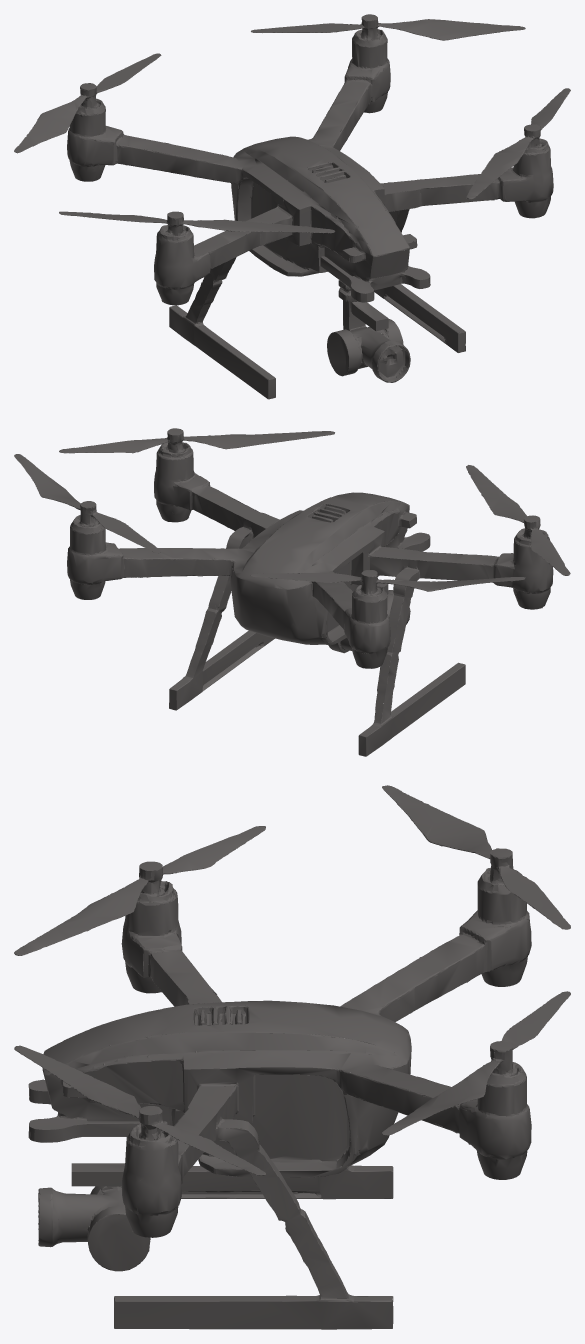
Rendered from drone_hexa.glb.
The picture shows the model from 3 angles, top to bottom: view 1: azimuth 30°, elevation 25°; view 2: azimuth 150°, elevation 25°; view 3: azimuth 270°, elevation 25°; orthographic projection. The views are drawn at different scales.
Visible parts, largest first — view 1: model.001; view 2: model.001; view 3: model.001.
Part boxes in pixels (x1=…): model.001: x1=14, y1=14, x2=570, y2=399; model.001: x1=14, y1=428, x2=570, y2=756; model.001: x1=14, y1=785, x2=570, y2=1329.
Bounding box in the file's own units: 1.9 × 0.7924 × 1.28.
1 material, 1 textured.
